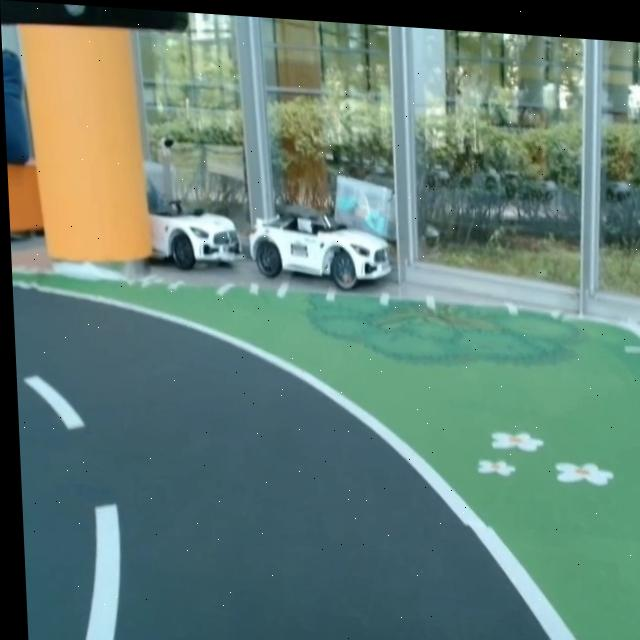traffic-light: (0, 0, 206, 49)
